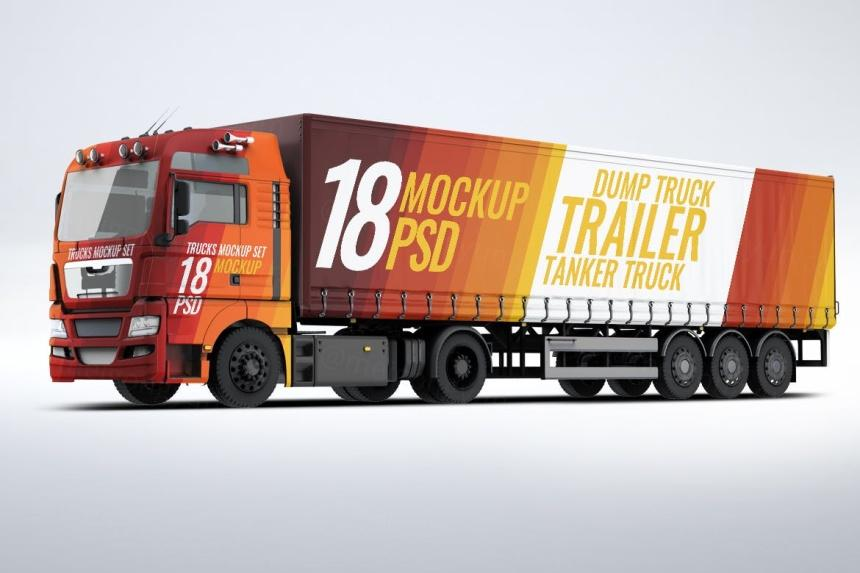truck: (42, 94, 860, 409)
